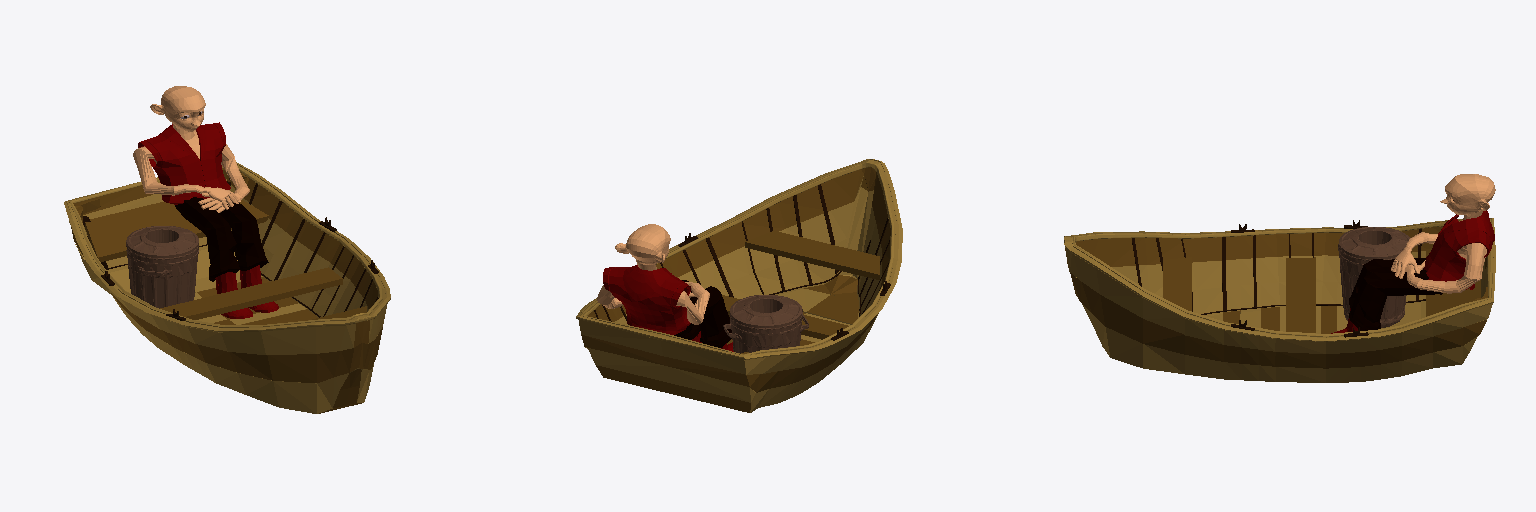
File: playerson5.obj
The picture shows the model from 3 angles: view 1: azimuth 30°, elevation 25°; view 2: azimuth 150°, elevation 25°; view 3: azimuth 270°, elevation 25°; orthographic projection.
Parts seen in each view (by area): view 1: 1, boatrenk, yelekbot, cop, deri, pantolon, 7, 6, 4; view 2: 1, boatrenk, yelekbot, cop, 8, deri, pantolon, 4, 7; view 3: 1, boatrenk, deri, cop, pantolon, yelekbot, 7, 8, 4, 6.
Boxes of the visible parts, <box> form: 1: <box>64,162,390,413</box>; boatrenk: <box>71,178,382,413</box>; yelekbot: <box>138,122,278,318</box>; cop: <box>126,226,198,308</box>; deri: <box>133,86,249,212</box>; pantolon: <box>175,197,268,281</box>; 7: <box>160,267,342,319</box>; 6: <box>85,200,268,261</box>; 4: <box>87,183,378,316</box>; 1: <box>576,159,902,412</box>; boatrenk: <box>581,167,890,412</box>; yelekbot: <box>603,265,733,351</box>; cop: <box>723,295,808,353</box>; 8: <box>745,231,879,279</box>; deri: <box>597,224,709,324</box>; pantolon: <box>674,280,731,347</box>; 4: <box>594,184,889,324</box>; 7: <box>722,295,848,339</box>; 1: <box>1064,218,1495,382</box>; boatrenk: <box>1065,226,1486,368</box>; deri: <box>1391,174,1495,293</box>; cop: <box>1338,227,1409,327</box>; pantolon: <box>1349,258,1442,330</box>; yelekbot: <box>1331,210,1494,333</box>; 7: <box>1286,257,1315,332</box>; 8: <box>1163,257,1191,310</box>; 4: <box>1132,229,1421,311</box>; 6: <box>1426,248,1480,316</box>.
Bounding box in the file's own units: 36.49 × 27.02 × 58.48.